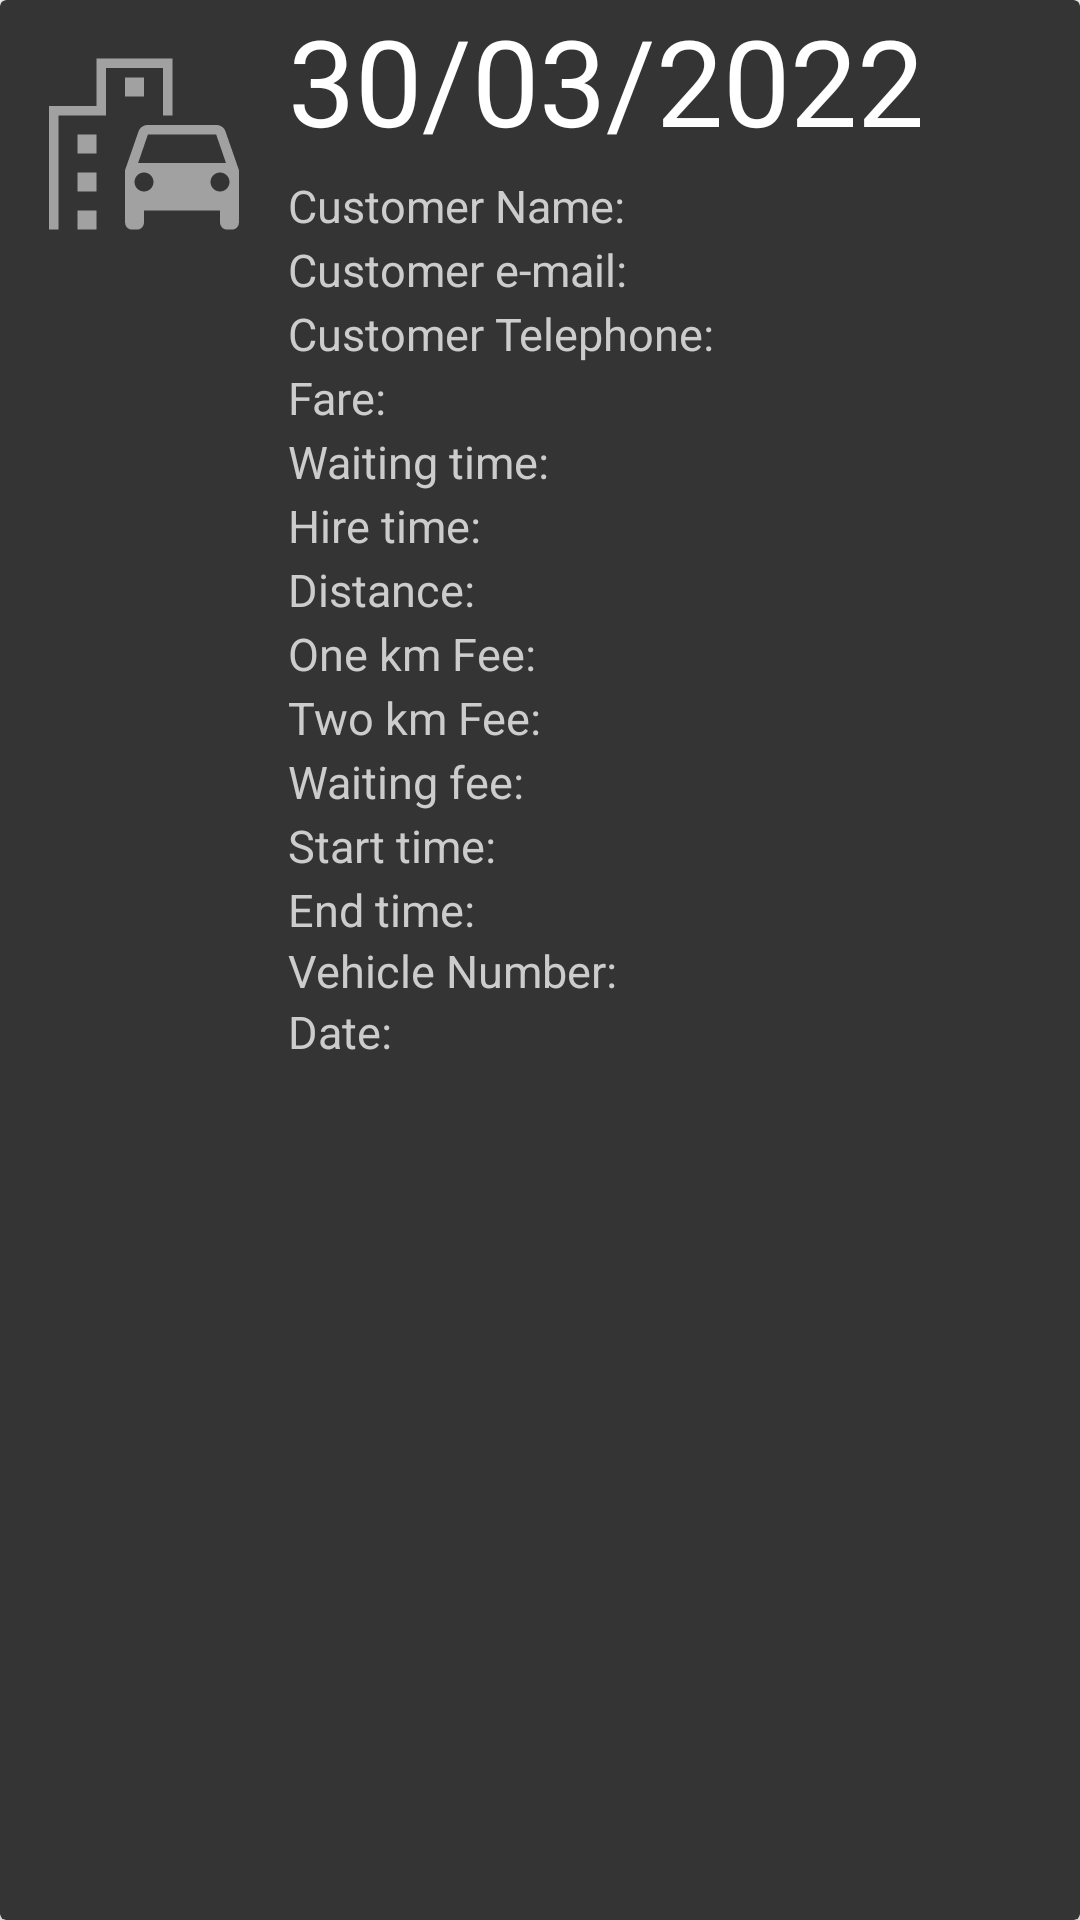

Icon bounding boxes for this 1080px x 1920px phone screenshot, format bbox=(x1, y1, x2, y2):
emoji transportation: bbox=(0, 0, 239, 230)
